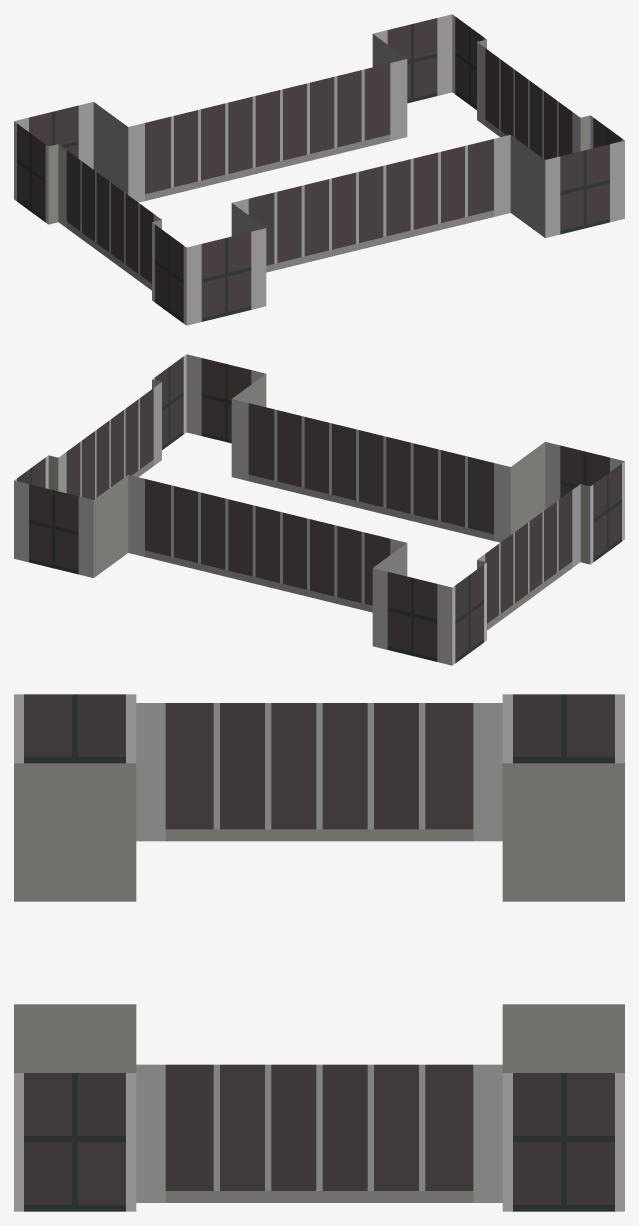
Rendered from TB_CITY_Skysc_K_BodyC_WarmGray.FBX.
The picture shows the model from 3 angles, top to bottom: view 1: azimuth 30°, elevation 25°; view 2: azimuth 150°, elevation 25°; view 3: azimuth 270°, elevation 25°; orthographic projection. The views are drawn at different scales.
Visible parts, largest first — view 1: TB_CITY_Skysc_K_BodyC_WarmGray; view 2: TB_CITY_Skysc_K_BodyC_WarmGray; view 3: TB_CITY_Skysc_K_BodyC_WarmGray.
Boxes of the visible parts, bbox=[...] form: TB_CITY_Skysc_K_BodyC_WarmGray: bbox=[14, 14, 624, 325]; TB_CITY_Skysc_K_BodyC_WarmGray: bbox=[14, 354, 624, 665]; TB_CITY_Skysc_K_BodyC_WarmGray: bbox=[14, 694, 624, 1211].
Size of the model in its own units: 44 by 7.5 by 30.
